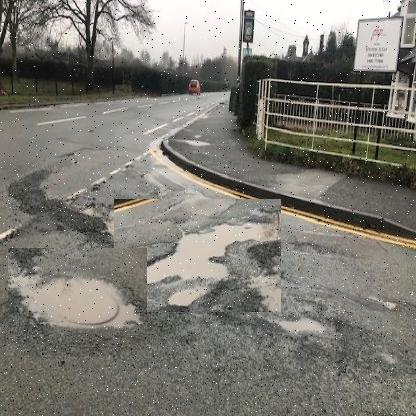pothole_water: (8, 248, 148, 352)
pothole_water_m: (114, 199, 282, 313)
